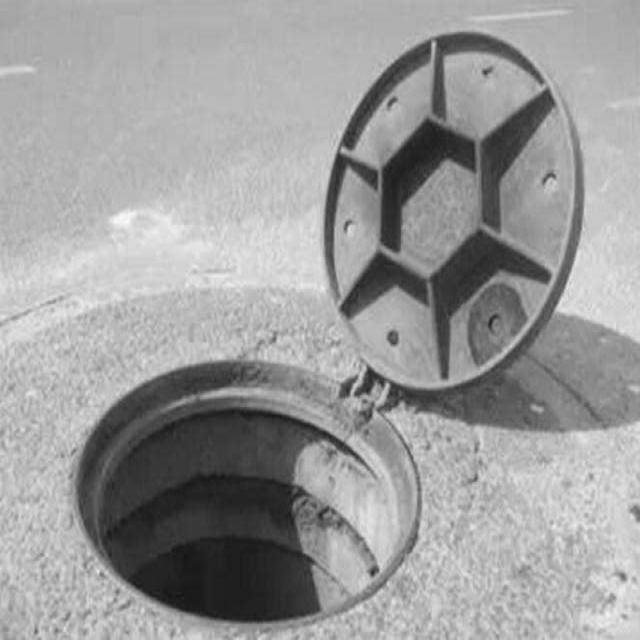manhole-cover: (69, 349, 430, 635)
obstracle: (314, 29, 591, 402)
